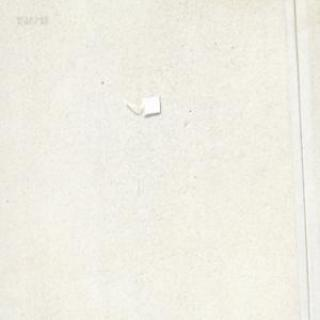LuggageTagtrack_idkeyframe: (121, 94, 160, 118)
